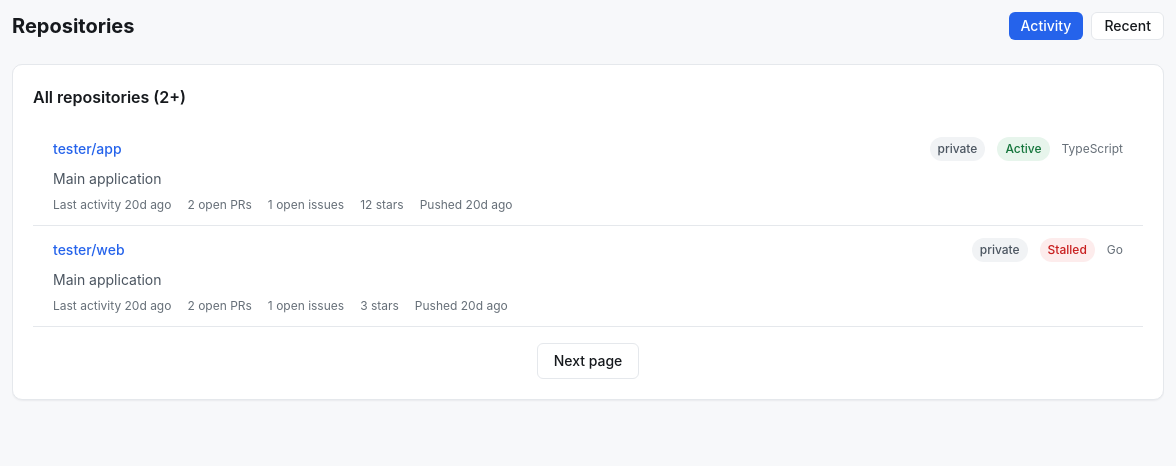
Test: Repositories page (T5.3) › paginates with the cursor contract and disables the button while loading
Check: the link "tester/app" is shown, box [53, 140, 122, 157]
Click the button "Next page" at (588, 361), box [537, 343, 639, 379]
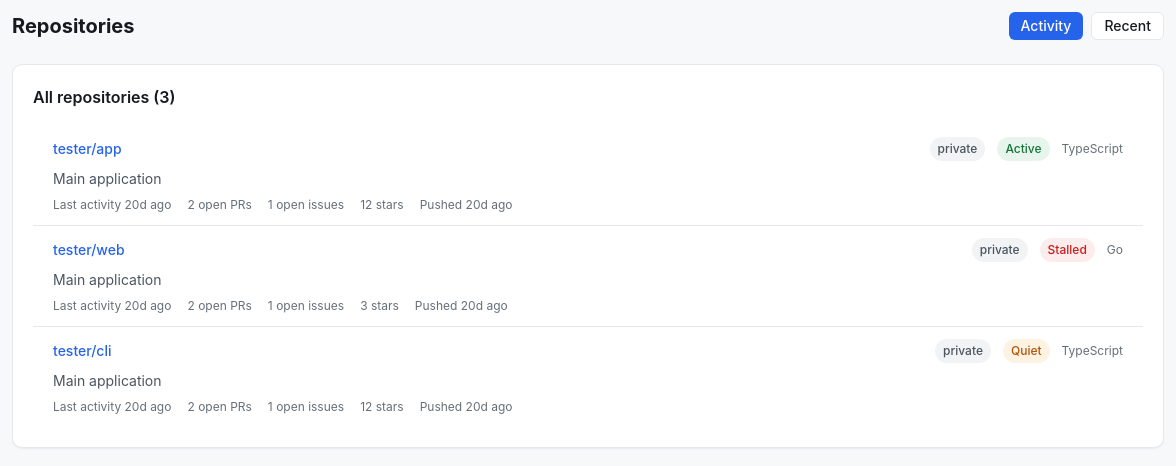
Check: the link "tester/cli" is shown, box [53, 342, 112, 359]
Check: the button "Next page" is gone
